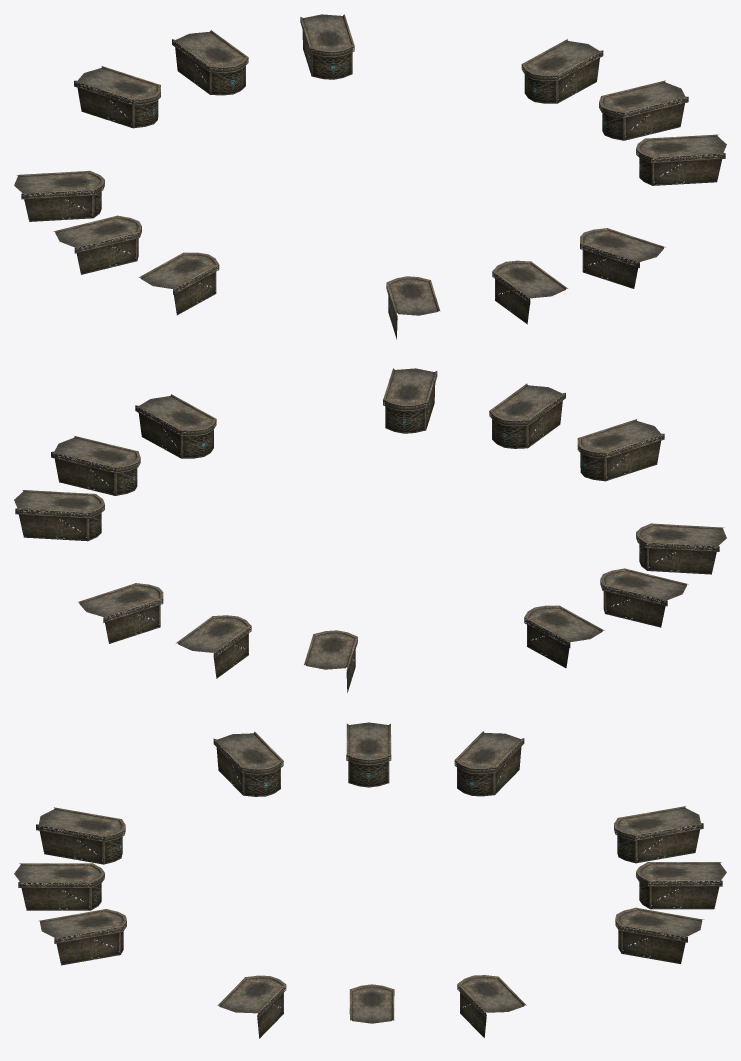
File: miniboss_02-4.glb
3 views of the same model, one above another, from view 1: azimuth 30°, elevation 25°; view 2: azimuth 150°, elevation 25°; view 3: azimuth 270°, elevation 25° (orthographic).
Parts seen in each view (by area): view 1: miniboss_02-2_re; view 2: miniboss_02-2_re; view 3: miniboss_02-2_re.
Boxes of the visible parts, <box> form: miniboss_02-2_re: <box>14,14,726,339</box>; miniboss_02-2_re: <box>14,368,726,692</box>; miniboss_02-2_re: <box>14,722,726,1038</box>.
Size of the model in its own units: 139 by 6.27 by 139.
2 materials, 2 textured.
